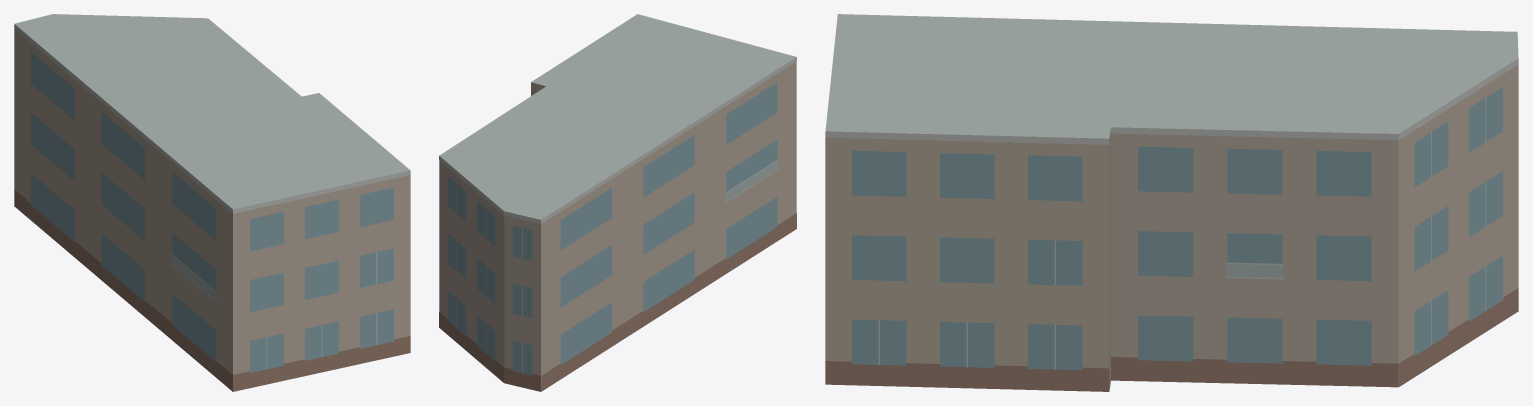
File: survey-upis-32903381.glb
3 renders of one model, left to right at view 1: azimuth 30°, elevation 25°; view 2: azimuth 150°, elevation 25°; view 3: azimuth 270°, elevation 25°, orthographic. The views are drawn at different scales.
Parts seen in each view (by area): view 1: survey-upis-32903381.tmp; view 2: survey-upis-32903381.tmp; view 3: survey-upis-32903381.tmp.
Boxes of the visible parts, x1=… form: survey-upis-32903381.tmp: x1=14, y1=14, x2=410, y2=391; survey-upis-32903381.tmp: x1=439, y1=14, x2=796, y2=391; survey-upis-32903381.tmp: x1=825, y1=14, x2=1518, y2=391.
Size of the model in its own units: 10.41 by 9.85 by 24.45.
